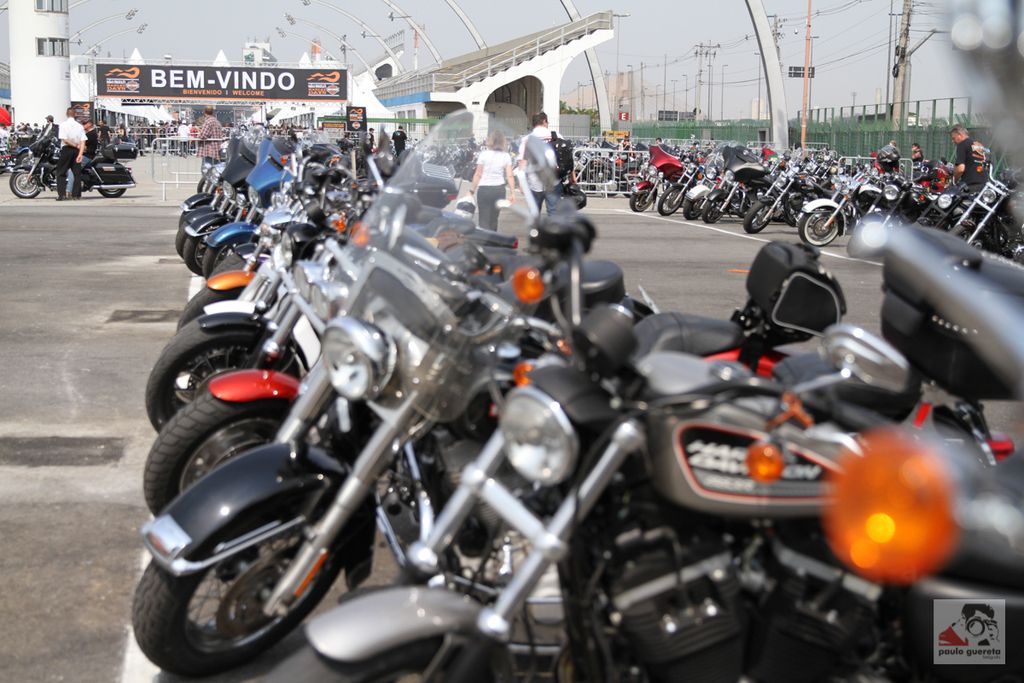Motorcycle: (122, 131, 1023, 682), (622, 129, 1023, 260)
